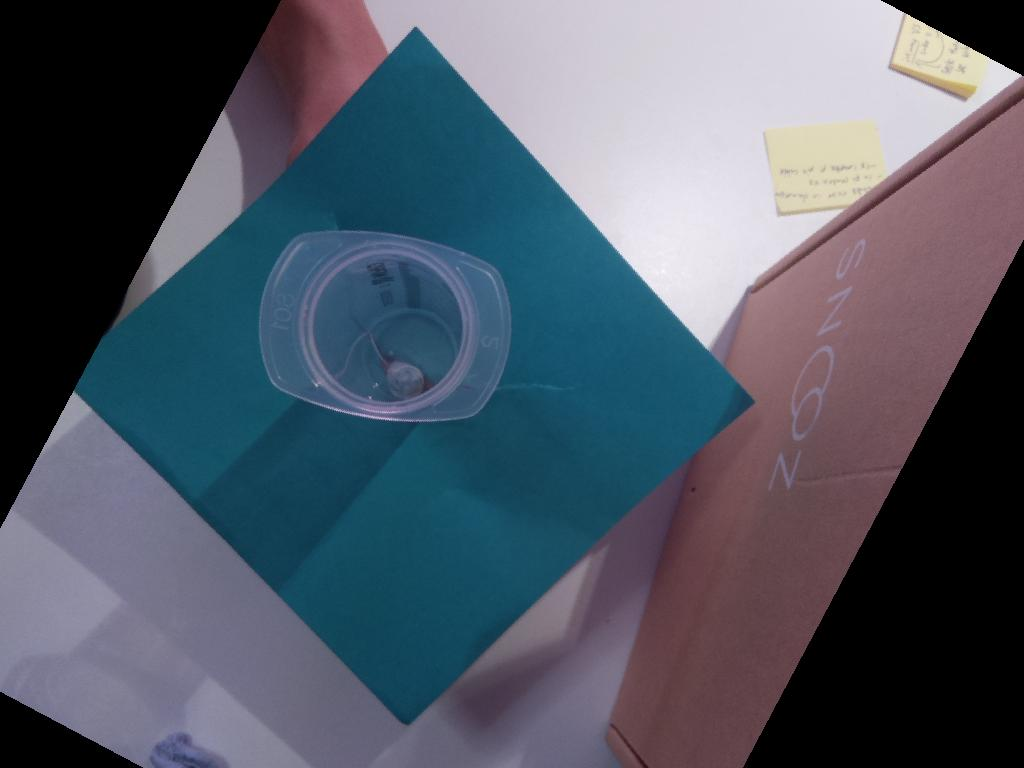clean: (256, 229, 513, 424)
